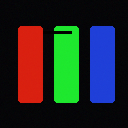3 line_h: (43, 31, 71, 33)
